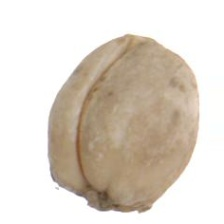L1: (59, 183, 150, 214), (122, 32, 183, 57)
L2: (46, 33, 200, 213)
